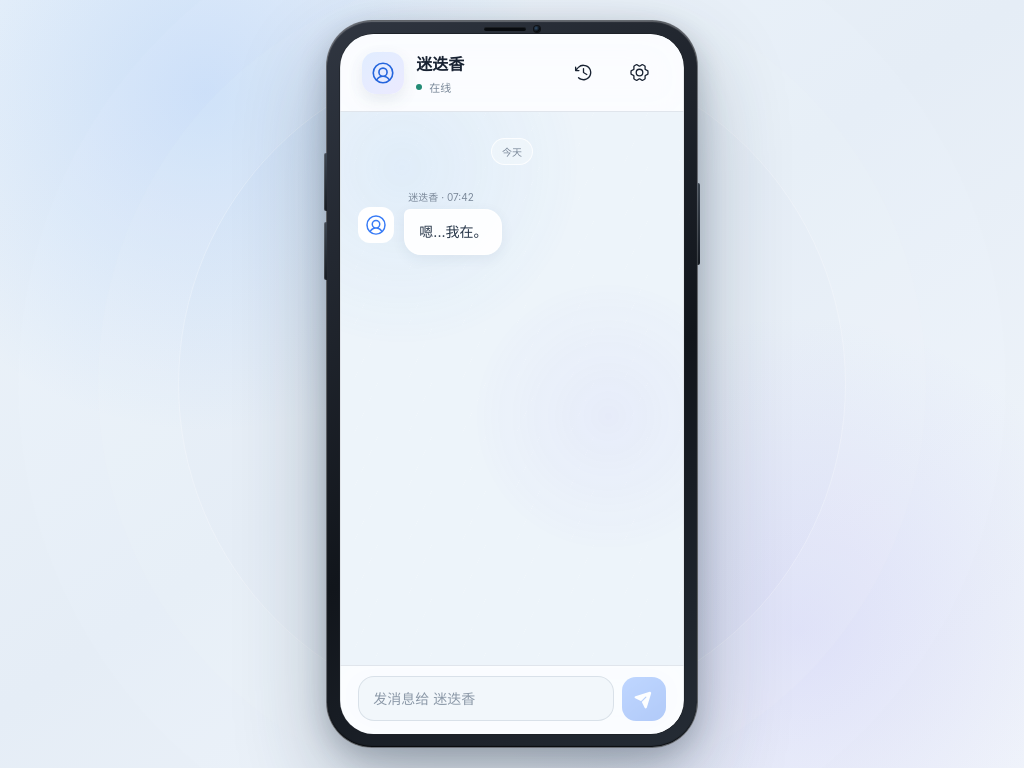
Test: configuration panels with bundled defaults › requires two in-app confirmations before clearing all local data
What coordinates should you click on to do the following:
click the button named "打开管理中心"
I would click on:
 (640, 72)
Its box is 618,50 -> 662,94.
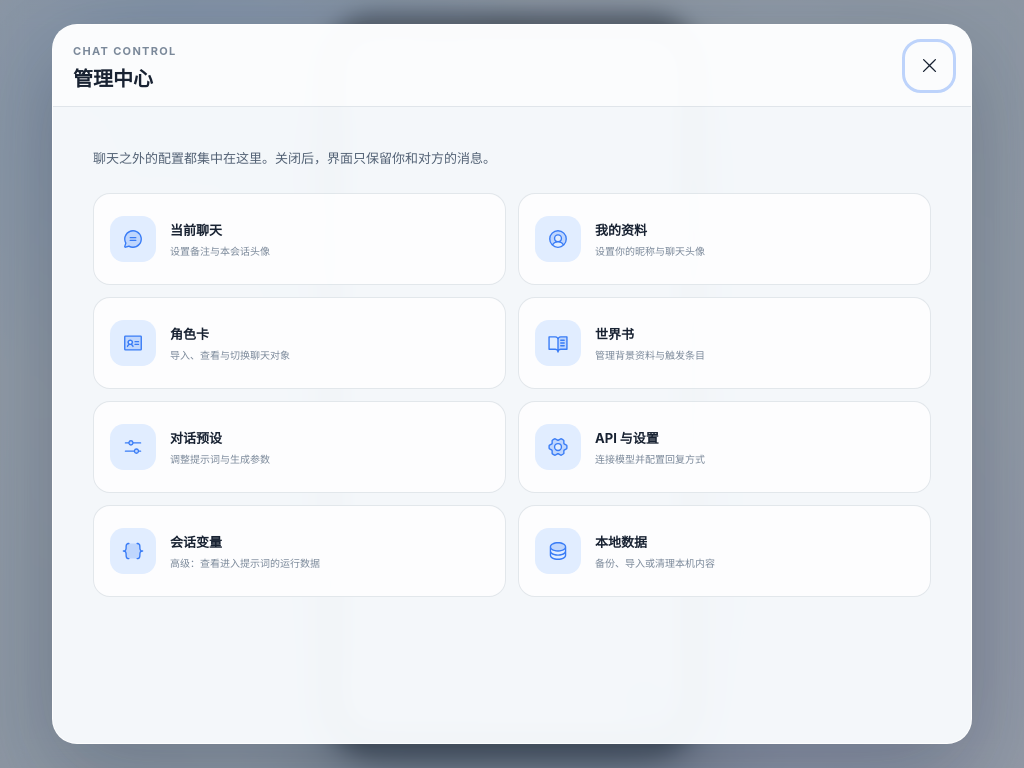
What coordinates should you click on to do the following:
click the button "API 与设置 连接模型并配置回复方式"
I would click on:
 (558, 447)
Its box is 518,401 -> 931,493.
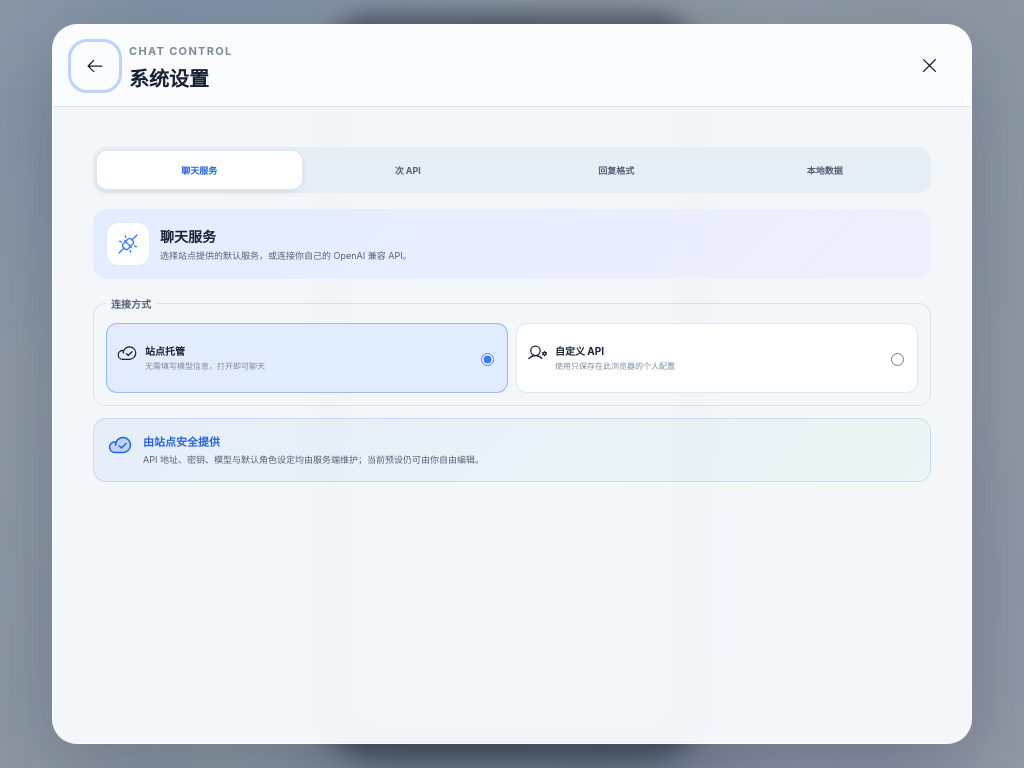
What coordinates should you click on to do the following:
click the button "本地数据"
I would click on:
 (825, 170)
Its box is 722,151 -> 927,189.
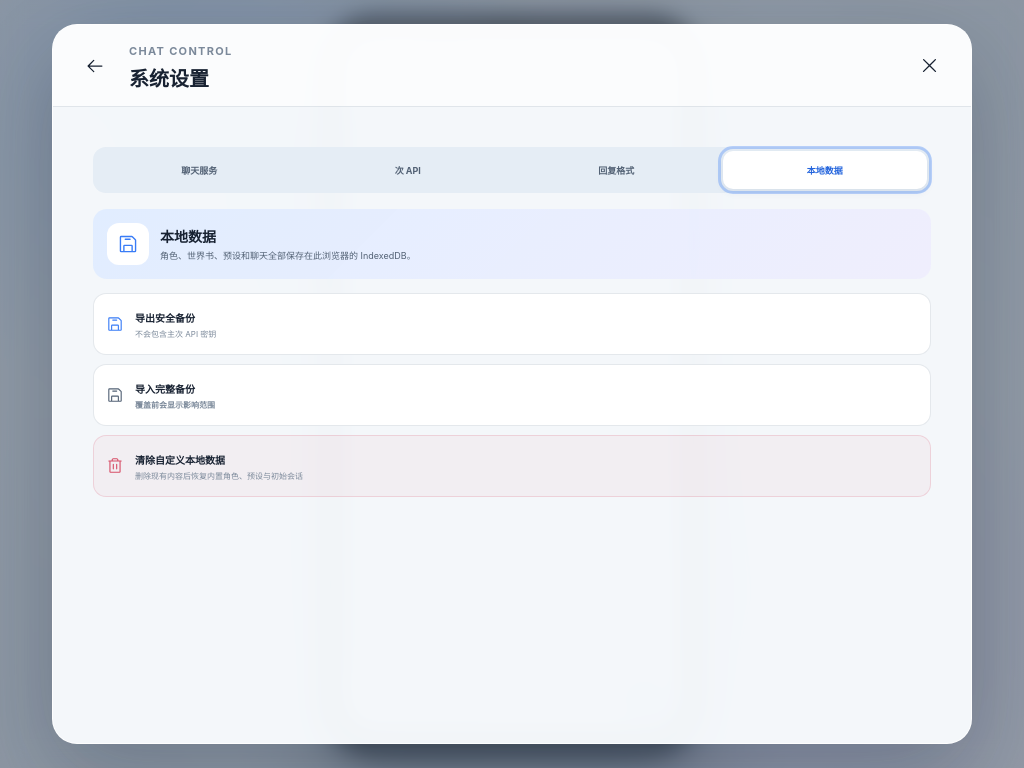
What coordinates should you click on to do the following:
click the button "清除自定义本地数据 删除现有内容后恢复内置角色、预设与初始会话"
I would click on:
 (180, 460)
Its box is 93,435 -> 931,497.
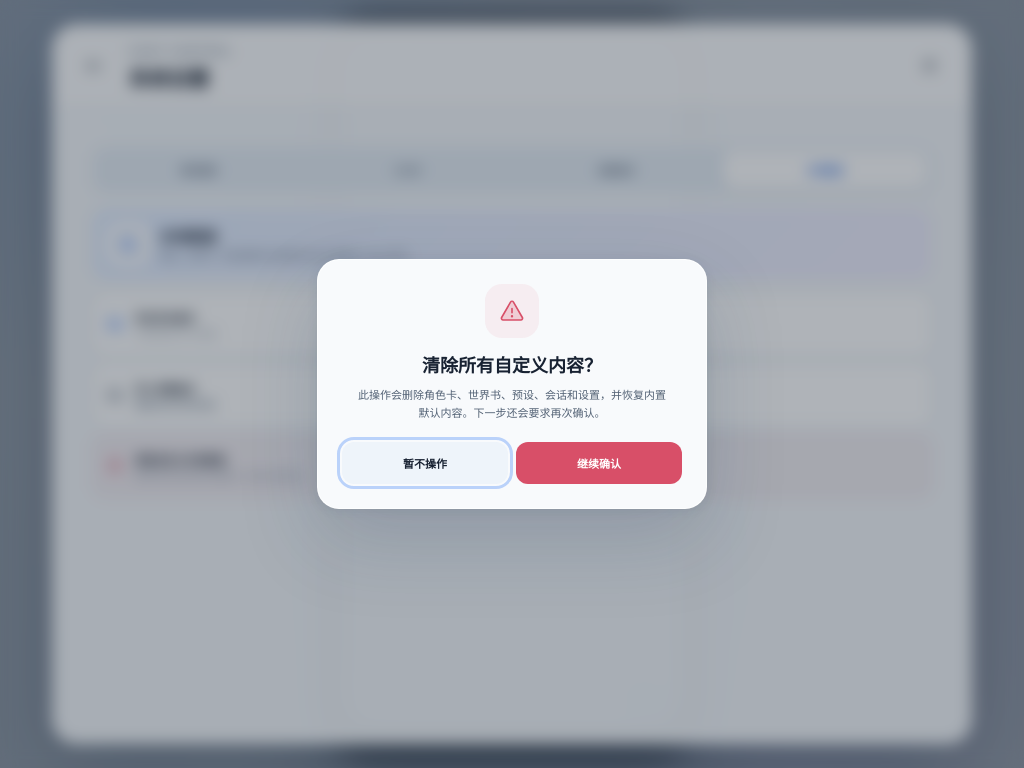
What coordinates should you click on to do the following:
click the button "继续确认"
I would click on:
 (599, 463)
Its box is 516,442 -> 682,484.
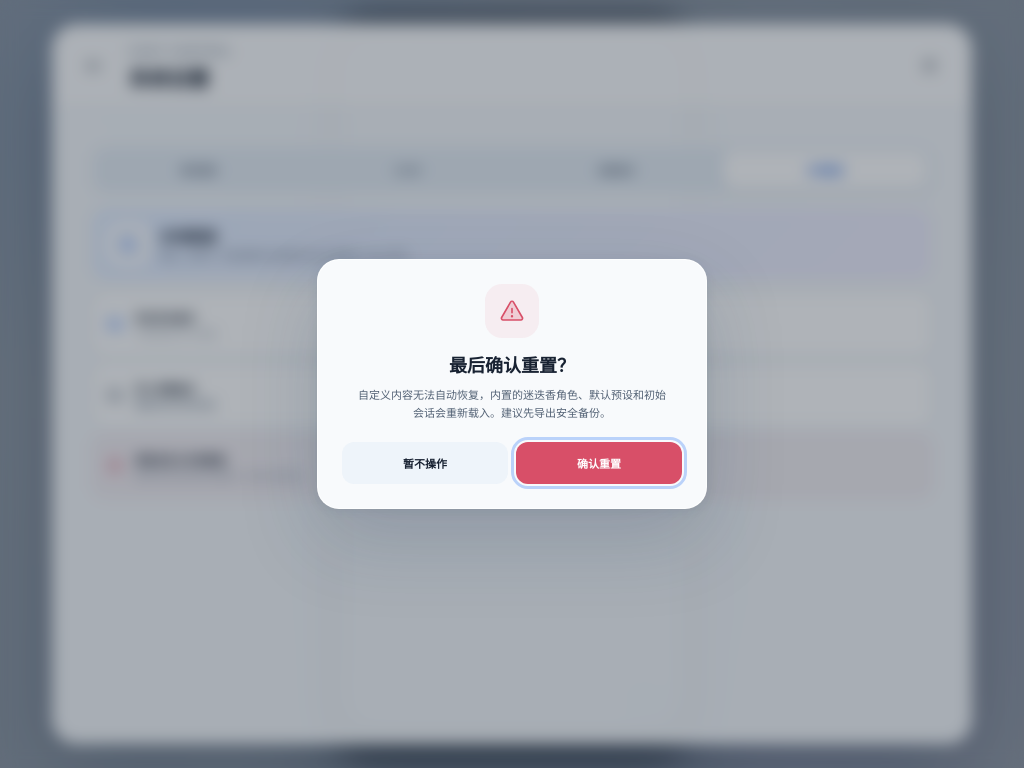
What coordinates should you click on to do the following:
click the button "确认重置"
I would click on:
 (599, 463)
Its box is 516,442 -> 682,484.
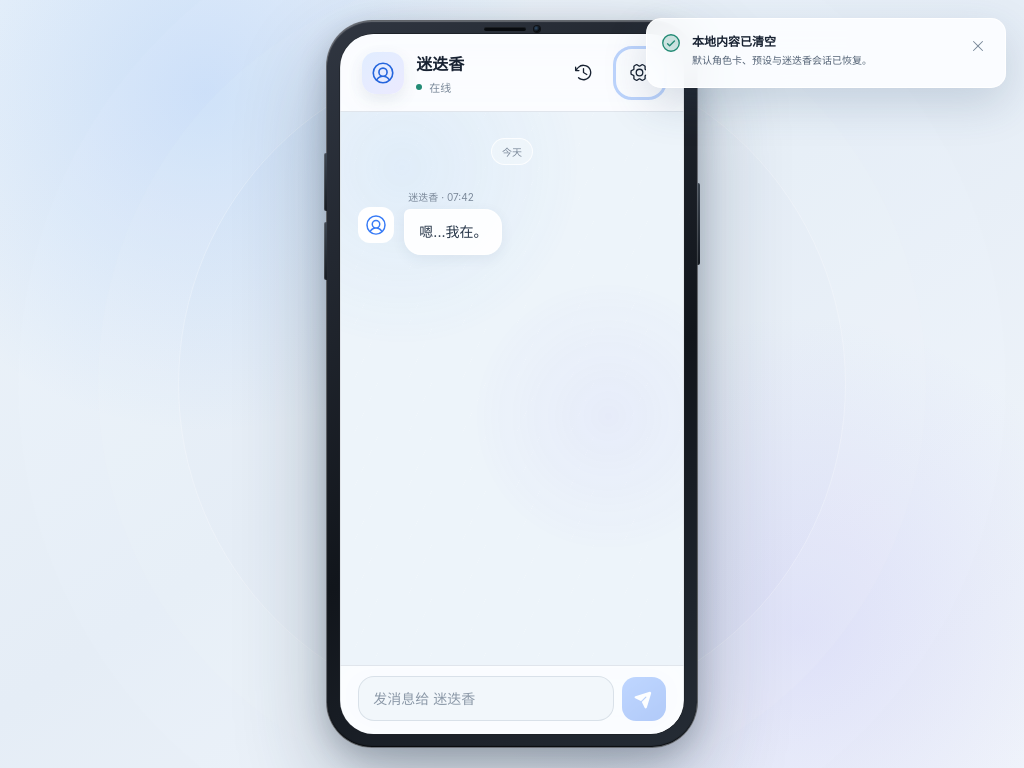
Expected: the heading "迷迭香" is shown, 416,50 -> 464,74
Result: the text "本地内容已清空" is shown at 692,34 -> 776,49
